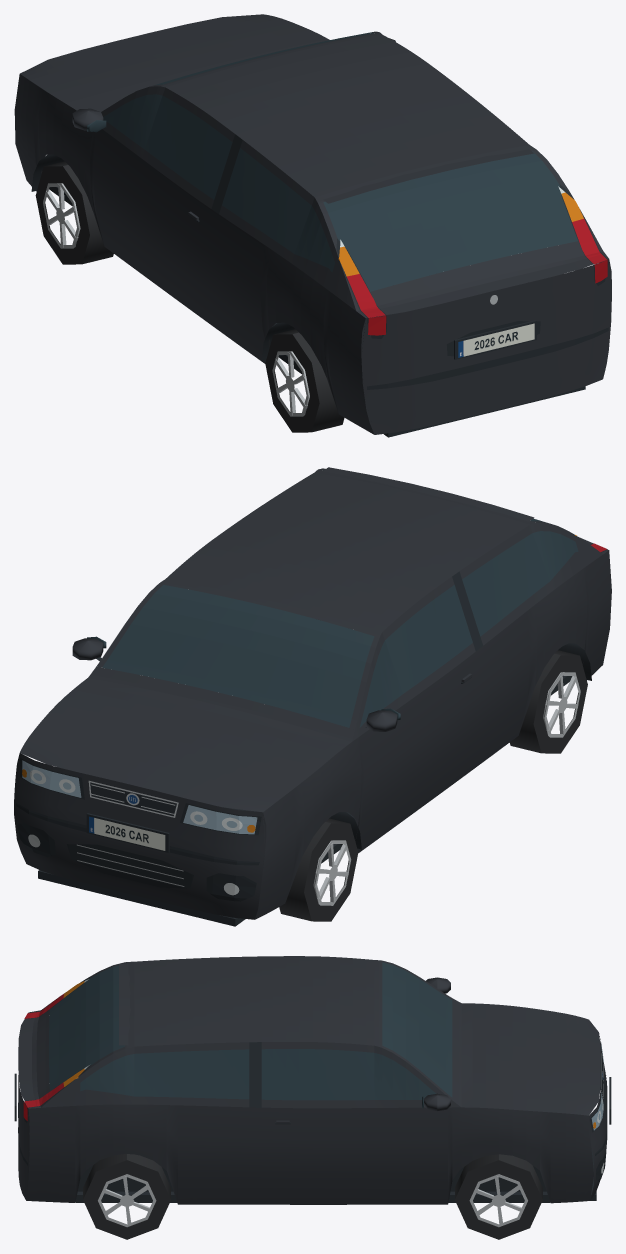
The model's file is Entrega_14_LOD2.glb.
3 renders of one model, top to bottom at view 1: azimuth 30°, elevation 25°; view 2: azimuth 150°, elevation 25°; view 3: azimuth 270°, elevation 25°, orthographic. The views are drawn at different scales.
Visible parts, largest first — view 1: Body, Glass, Wheel_RL, Wheel_FL, BrakeLights, Plates; view 2: Body, Glass, Wheel_FL, Wheel_RL, Headlights, Plates; view 3: Body, Glass, Wheel_RR, Wheel_FR, BrakeLights.
Boxes of the visible parts, <box> form: Body: <box>14,14,611,437</box>; Glass: <box>87,32,578,291</box>; Wheel_RL: <box>265,329,344,432</box>; Wheel_FL: <box>35,161,113,264</box>; BrakeLights: <box>347,218,607,318</box>; Plates: <box>458,323,534,357</box>; Body: <box>14,467,611,926</box>; Glass: <box>87,518,578,727</box>; Wheel_FL: <box>279,818,358,921</box>; Wheel_RL: <box>509,650,587,753</box>; Headlights: <box>22,760,257,895</box>; Plates: <box>89,816,165,850</box>; Body: <box>14,956,611,1204</box>; Glass: <box>49,962,452,1108</box>; Wheel_RR: <box>83,1154,170,1239</box>; Wheel_FR: <box>455,1154,542,1239</box>; BrakeLights: <box>23,994,63,1107</box>.
Size of the model in its own units: 2.1 by 1.47 by 4.18.
12 materials, 1 textured.
